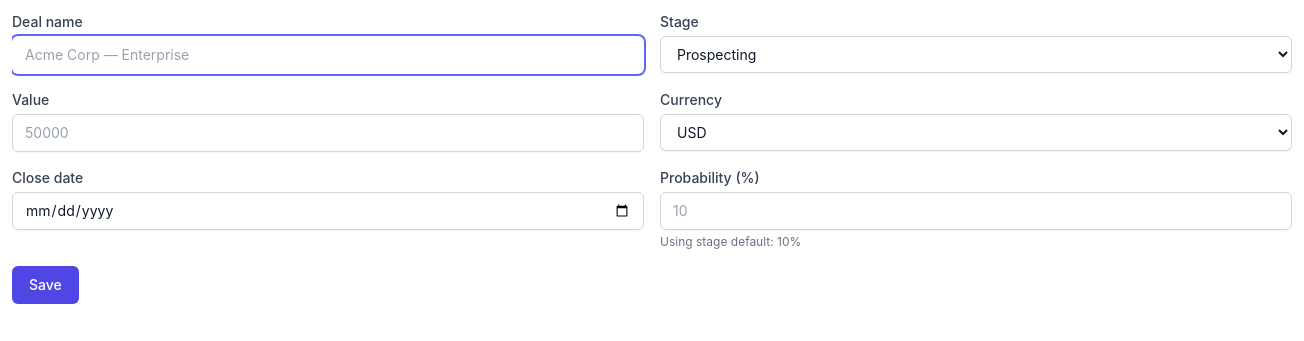
Test: DealForm — probability clear button › clears the probability field when the clear button is clicked
Type "50" into the number field with test id "deal-probability-input". click: (976, 211)
box: [660,192,1292,230]
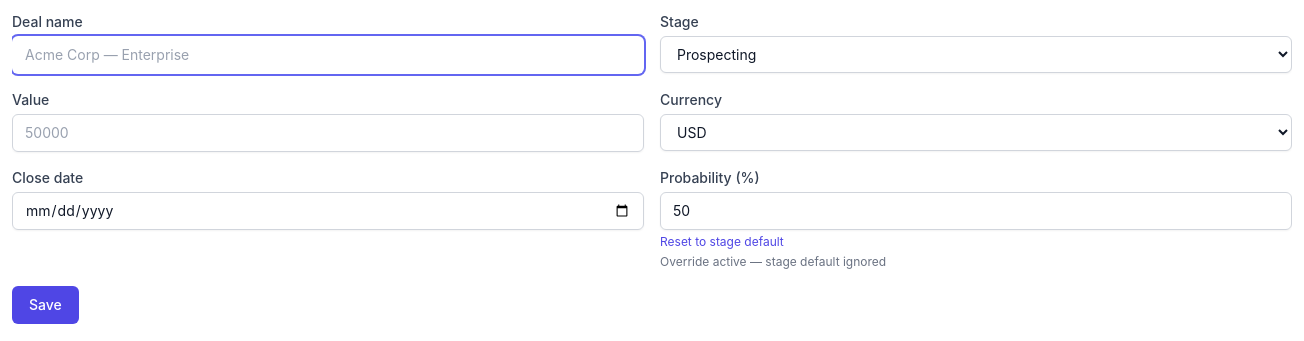
Click the button with test id "deal-probability-clear". click: click(722, 242)
box: [660,234,784,250]
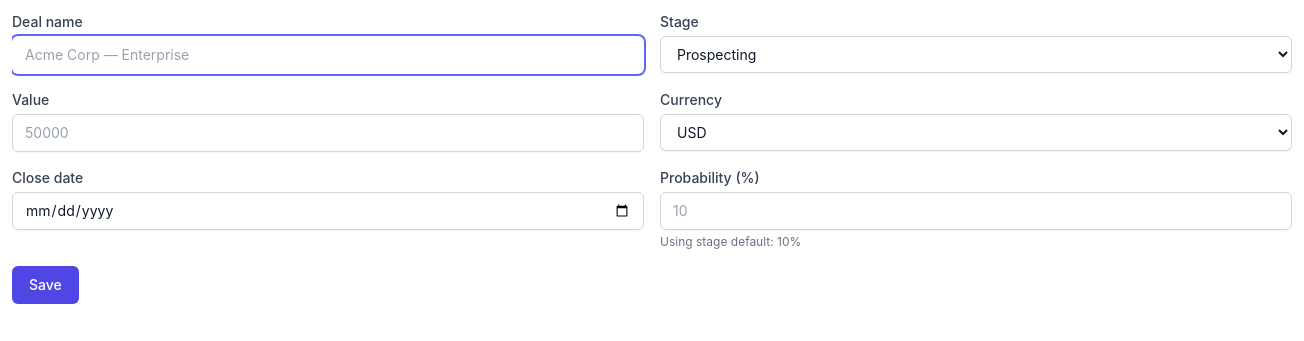
Check: the number field with test id "deal-probability-input" is not empty, box [660,192,1292,230]
Check: the button with test id "deal-probability-clear" is gone
